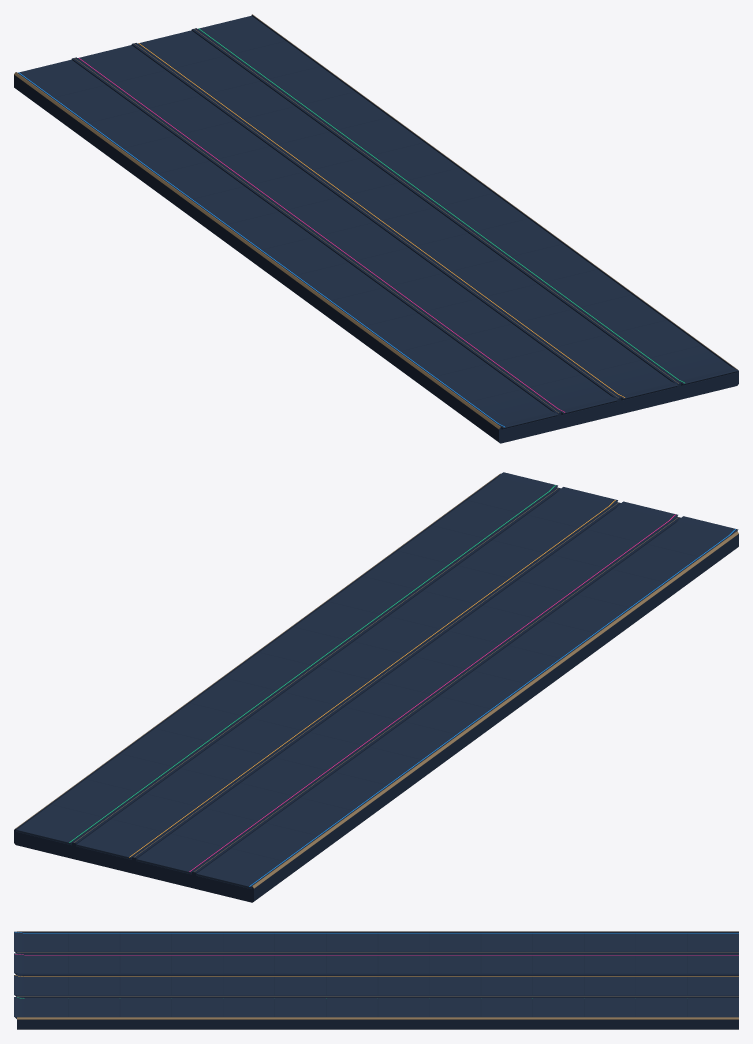
Rendered from highway.glb.
3 renders of one model, top to bottom at view 1: azimuth 30°, elevation 25°; view 2: azimuth 150°, elevation 25°; view 3: azimuth 270°, elevation 25°, orthographic. The views are drawn at different scales.
Parts seen in each view (by area): view 1: Highway lane 4 | continuous inset bed and terminal ramp, Highway lane 3 | continuous inset bed and terminal ramp, Highway lane 2 | continuous inset bed and terminal ramp, Highway lane 1 | continuous inset bed and terminal ramp, Highway | continuous four-channel profiled chassis, Highway | slim muted metal left shoulder; view 2: Highway lane 1 | continuous inset bed and terminal ramp, Highway lane 2 | continuous inset bed and terminal ramp, Highway lane 4 | continuous inset bed and terminal ramp, Highway lane 3 | continuous inset bed and terminal ramp, Highway | continuous four-channel profiled chassis, Highway | slim muted metal left shoulder; view 3: Highway | continuous four-channel profiled chassis, Highway lane 2 | continuous inset bed and terminal ramp, Highway lane 3 | continuous inset bed and terminal ramp, Highway lane 1 | continuous inset bed and terminal ramp, Highway lane 4 | continuous inset bed and terminal ramp, Highway | slim muted metal right shoulder, Highway lane 2 | embedded colored edge inlay, Highway lane 3 | embedded colored edge inlay, Highway lane 1 | embedded colored edge inlay, Highway | slim muted metal divider 1, Highway | slim muted metal divider 3, Highway | slim muted metal left shoulder.
Part boxes in pixels (<box>): Highway lane 4 | continuous inset bed and terminal ramp: <box>198,15,737,385</box>; Highway lane 3 | continuous inset bed and terminal ramp: <box>138,30,677,400</box>; Highway lane 2 | continuous inset bed and terminal ramp: <box>77,45,617,414</box>; Highway lane 1 | continuous inset bed and terminal ramp: <box>18,59,557,429</box>; Highway | continuous four-channel profiled chassis: <box>14,15,738,443</box>; Highway | slim muted metal left shoulder: <box>14,72,500,429</box>; Highway lane 1 | continuous inset bed and terminal ramp: <box>196,516,738,888</box>; Highway lane 2 | continuous inset bed and terminal ramp: <box>136,501,677,874</box>; Highway lane 4 | continuous inset bed and terminal ramp: <box>16,472,557,844</box>; Highway lane 3 | continuous inset bed and terminal ramp: <box>76,487,617,859</box>; Highway | continuous four-channel profiled chassis: <box>14,474,738,902</box>; Highway | slim muted metal left shoulder: <box>252,531,738,888</box>; Highway | continuous four-channel profiled chassis: <box>17,931,738,1029</box>; Highway lane 2 | continuous inset bed and terminal ramp: <box>14,953,738,974</box>; Highway lane 3 | continuous inset bed and terminal ramp: <box>14,975,738,996</box>; Highway lane 1 | continuous inset bed and terminal ramp: <box>14,931,738,953</box>; Highway lane 4 | continuous inset bed and terminal ramp: <box>14,997,738,1018</box>; Highway | slim muted metal right shoulder: <box>17,1017,738,1019</box>; Highway lane 2 | embedded colored edge inlay: <box>15,954,738,955</box>; Highway lane 3 | embedded colored edge inlay: <box>15,975,738,976</box>; Highway lane 1 | embedded colored edge inlay: <box>15,932,738,933</box>; Highway | slim muted metal divider 1: <box>17,952,738,952</box>; Highway | slim muted metal divider 3: <box>17,996,738,996</box>; Highway | slim muted metal left shoulder: <box>17,931,738,931</box>.
Bounding box in the file's own units: 12 × 0.805 × 42.16.
